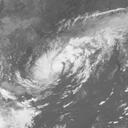cyclone: (32, 45, 89, 96)
